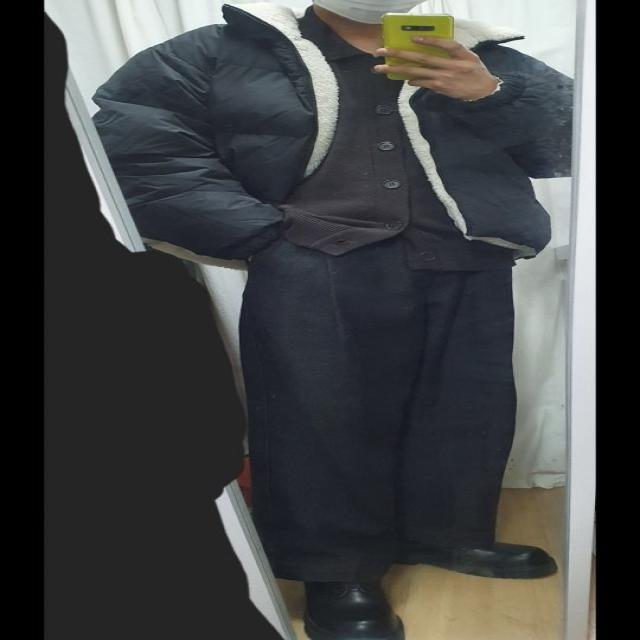padding: (89, 1, 567, 256)
slacks: (245, 225, 517, 576)
